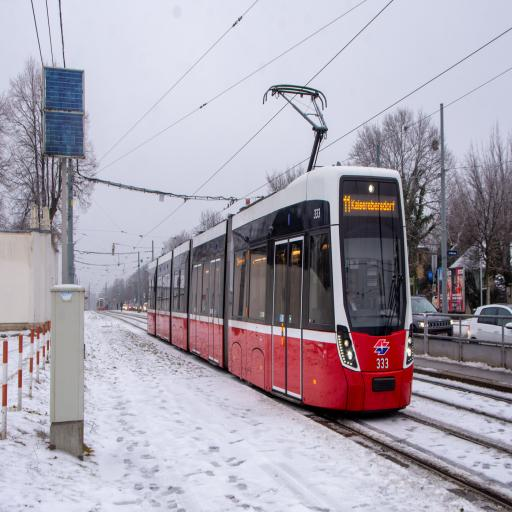Flexity: (147, 156, 418, 398)
